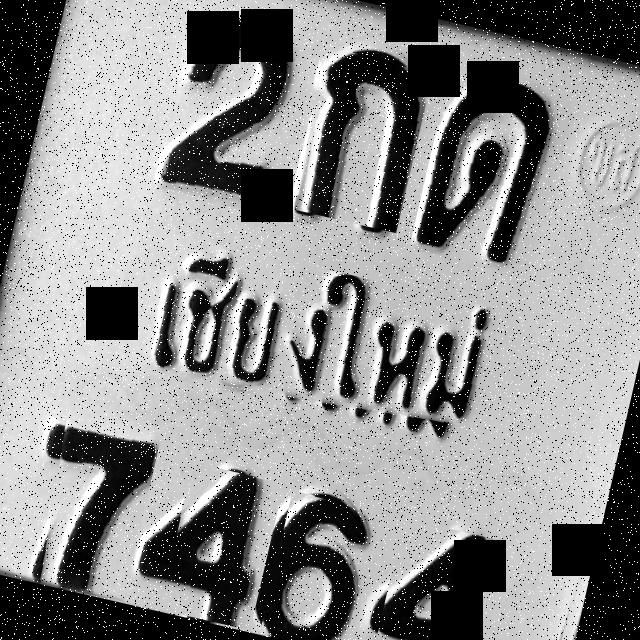letters: (150, 8, 312, 218), (408, 72, 573, 278), (286, 44, 434, 233), (28, 408, 162, 602), (156, 460, 284, 630), (259, 489, 383, 640), (371, 518, 511, 640)
license-plate: (0, 0, 640, 640)
province: (118, 229, 501, 450)
